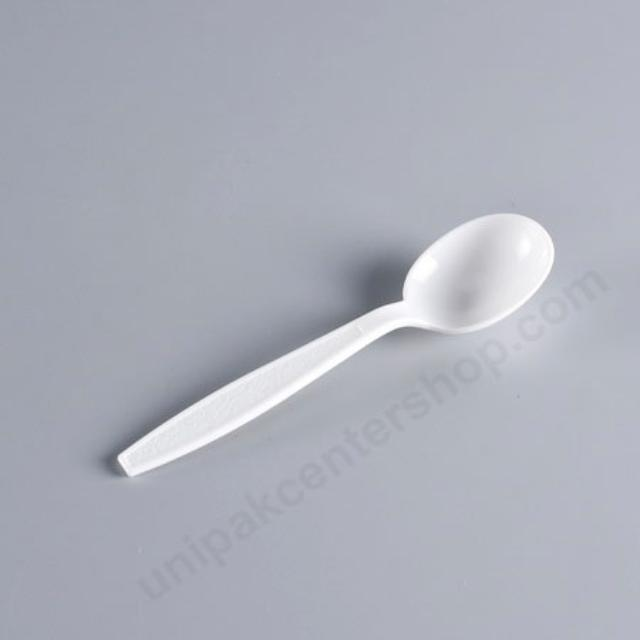Plastico descartable: (114, 214, 557, 480)
